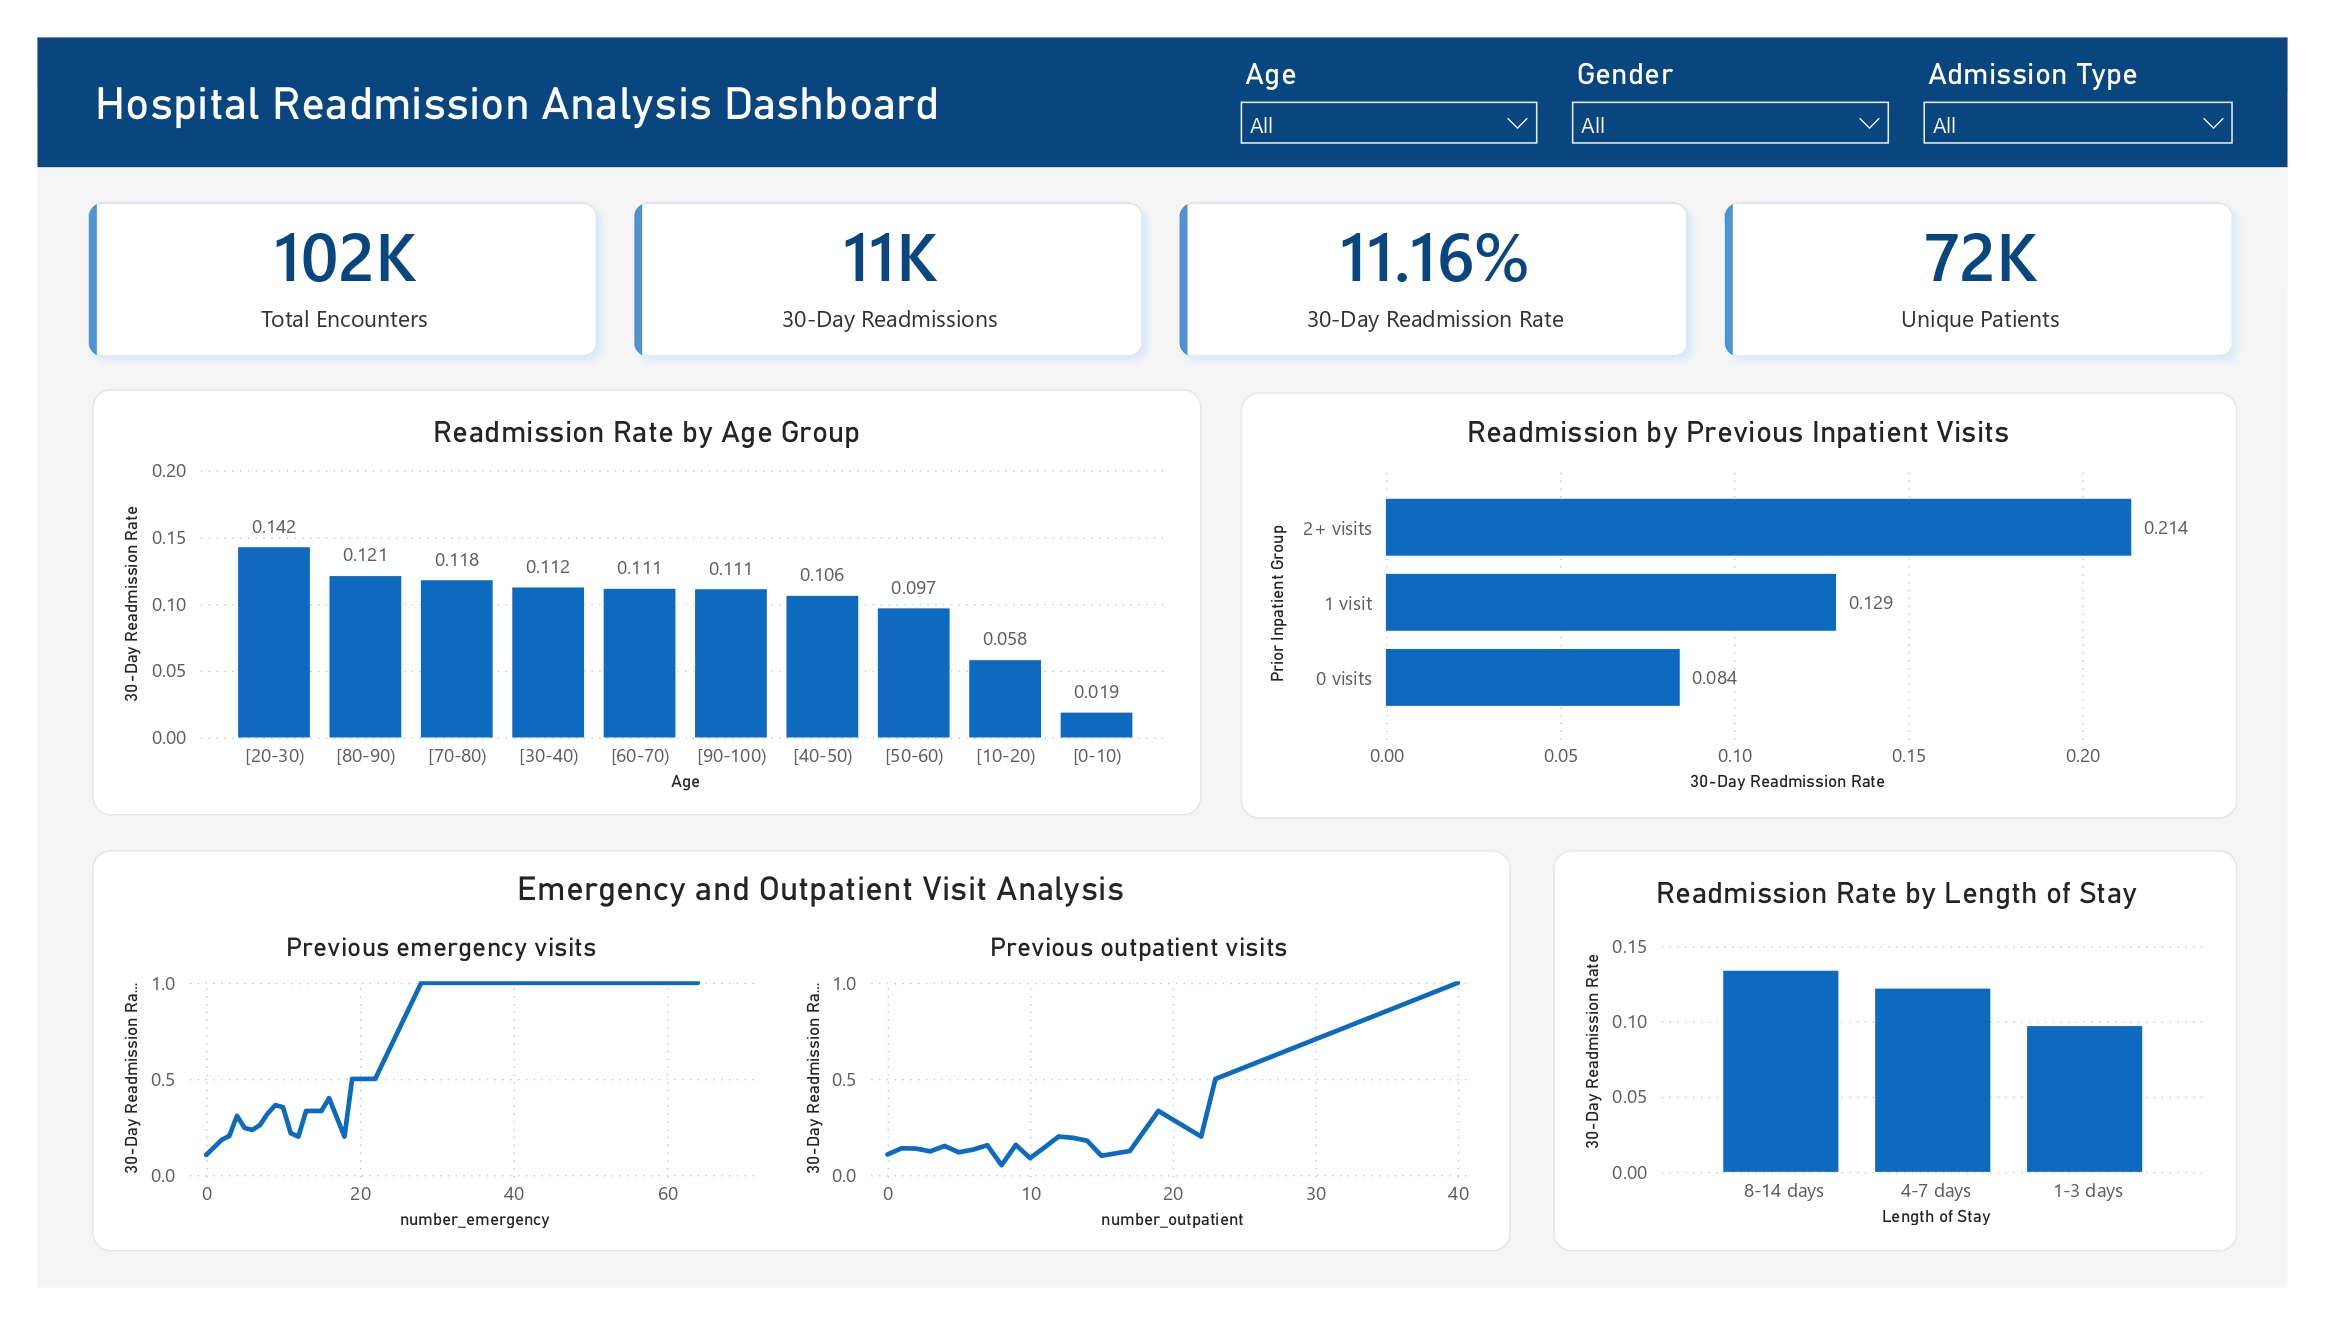

What the dashboard file says about the page in this screenshot:
{"tool":"powerbi","page":{"name":"Page 1","canvas":[1440,800],"ordinal":0},"visuals":[{"type":"shape","box":[970,520,438.3,256.7],"z":0},{"type":"shape","box":[770,226.7,638.3,273.3],"z":1000},{"type":"shape","box":[35,225,710,273.3],"z":2000},{"type":"shape","box":[35,520,908.3,256.7],"z":3000},{"type":"shape","box":[0,0,1440,83.3],"z":4000},{"type":"columnChart","title":"Readmission Rate by Age Group","fields":{"Category":["hospital_readmissions_analysis.age"],"Y":["hospital_readmissions_analysis.30-Day Readmission Rate"]},"box":[46.7,233.3,686.7,256.7],"z":5000},{"type":"cardVisual","title":"bnvbnvbn","fields":{"Data":["hospital_readmissions_analysis.Total Encounters","hospital_readmissions_analysis.30-Day Readmissions","hospital_readmissions_analysis.30-Day Readmission Rate","hospital_readmissions_analysis.Unique Patients"]},"box":[0,85,1440,140],"z":6000},{"type":"textbox","box":[16.7,15,693.3,53.3],"z":7000},{"type":"clusteredBarChart","title":"Readmission by Previous Inpatient Visits","fields":{"Category":["hospital_readmissions_analysis.prior_inpatient_group"],"Y":["hospital_readmissions_analysis.30-Day Readmission Rate"]},"box":[780,233.3,616.7,256.7],"z":8000},{"type":"textbox","box":[281.7,526.7,438.3,43.3],"z":9000},{"type":"slicer","fields":{"Values":["hospital_readmissions_analysis.age"]},"box":[760.3,6.5,210,65],"z":10000},{"type":"slicer","fields":{"Values":["hospital_readmissions_analysis.gender"]},"box":[971.9,6.5,223.3,65],"z":11000},{"type":"slicer","fields":{"Values":["hospital_readmissions_analysis.admission_type_id"]},"box":[1196.9,6.5,218.3,65],"z":12000},{"type":"clusteredColumnChart","title":"Readmission Rate by Length of Stay","fields":{"Category":["hospital_readmissions_analysis.length_of_stay_group"],"Y":["hospital_readmissions_analysis.30-Day Readmission Rate"]},"box":[981.7,528.3,416.7,240],"z":13000},{"type":"lineChart","title":"Previous emergency visits","fields":{"Category":["hospital_readmissions_analysis.number_emergency"],"Y":["hospital_readmissions_analysis.30-Day Readmission Rate"]},"box":[46.7,563.5,423.3,206.7],"z":14000},{"type":"lineChart","title":"Previous outpatient visits","fields":{"Category":["hospital_readmissions_analysis.number_outpatient"],"Y":["hospital_readmissions_analysis.30-Day Readmission Rate"]},"box":[483.3,563.5,443.3,206.7],"z":15000}]}

Visuals, with their boxes on the page's 1440x800 design canvas (x1, y1, x2, y2). These are canvas units, not pixel positions in the 2325x1325 screenshot, which may show the page scaled, cropped or inside an application window:
shape: (x1=970, y1=520, x2=1408, y2=777)
shape: (x1=770, y1=227, x2=1408, y2=500)
shape: (x1=35, y1=225, x2=745, y2=498)
shape: (x1=35, y1=520, x2=943, y2=777)
shape: (x1=0, y1=0, x2=1440, y2=83)
"Readmission Rate by Age Group" columnChart: (x1=47, y1=233, x2=733, y2=490)
"bnvbnvbn" cardVisual: (x1=0, y1=85, x2=1440, y2=225)
textbox: (x1=17, y1=15, x2=710, y2=68)
"Readmission by Previous Inpatient Visits" clusteredBarChart: (x1=780, y1=233, x2=1397, y2=490)
textbox: (x1=282, y1=527, x2=720, y2=570)
slicer - hospital_readmissions_analysis.age: (x1=760, y1=6, x2=970, y2=72)
slicer - hospital_readmissions_analysis.gender: (x1=972, y1=6, x2=1195, y2=72)
slicer - hospital_readmissions_analysis.admission_type_id: (x1=1197, y1=6, x2=1415, y2=72)
"Readmission Rate by Length of Stay" clusteredColumnChart: (x1=982, y1=528, x2=1398, y2=768)
"Previous emergency visits" lineChart: (x1=47, y1=564, x2=470, y2=770)
"Previous outpatient visits" lineChart: (x1=483, y1=564, x2=927, y2=770)
